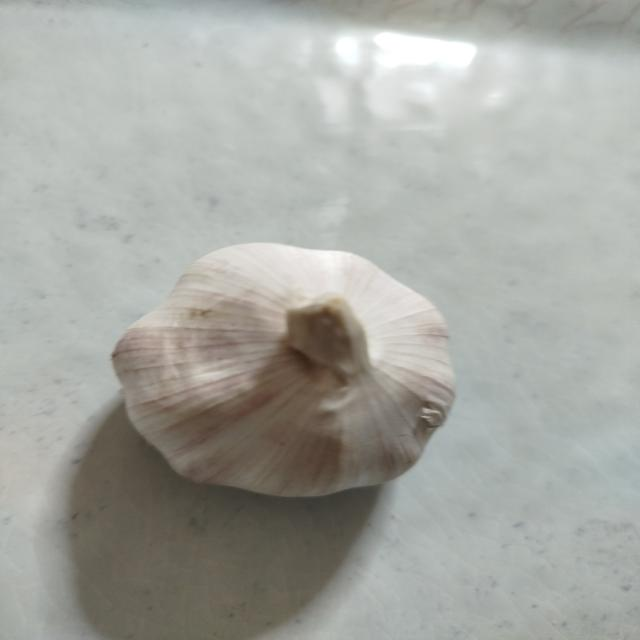garlic: (110, 241, 457, 498)
